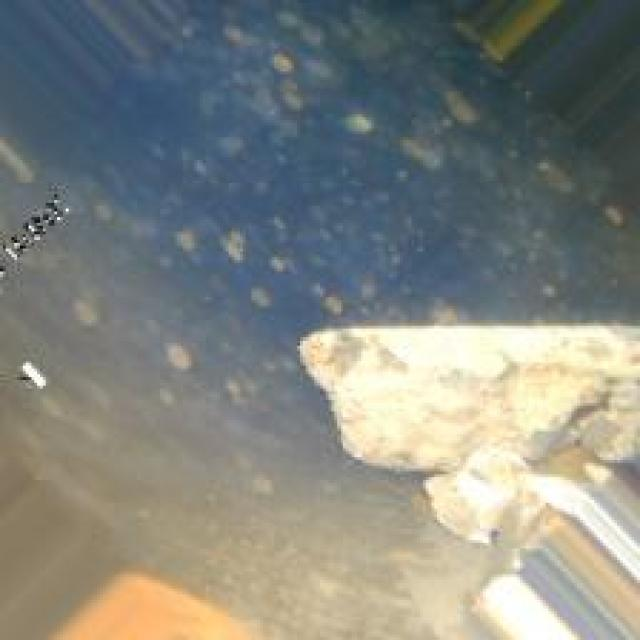stone: (288, 306, 632, 483)
